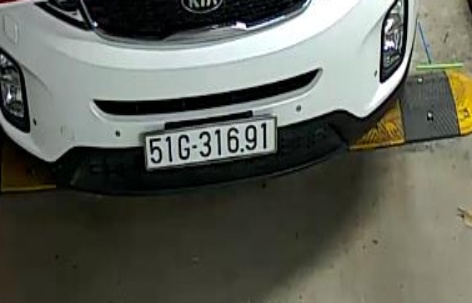plate: (141, 120, 281, 171)
